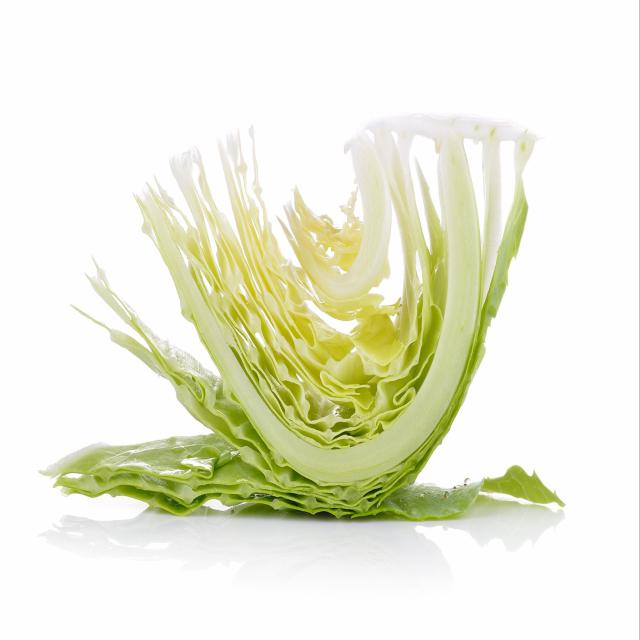cabbage: (37, 103, 572, 527)
